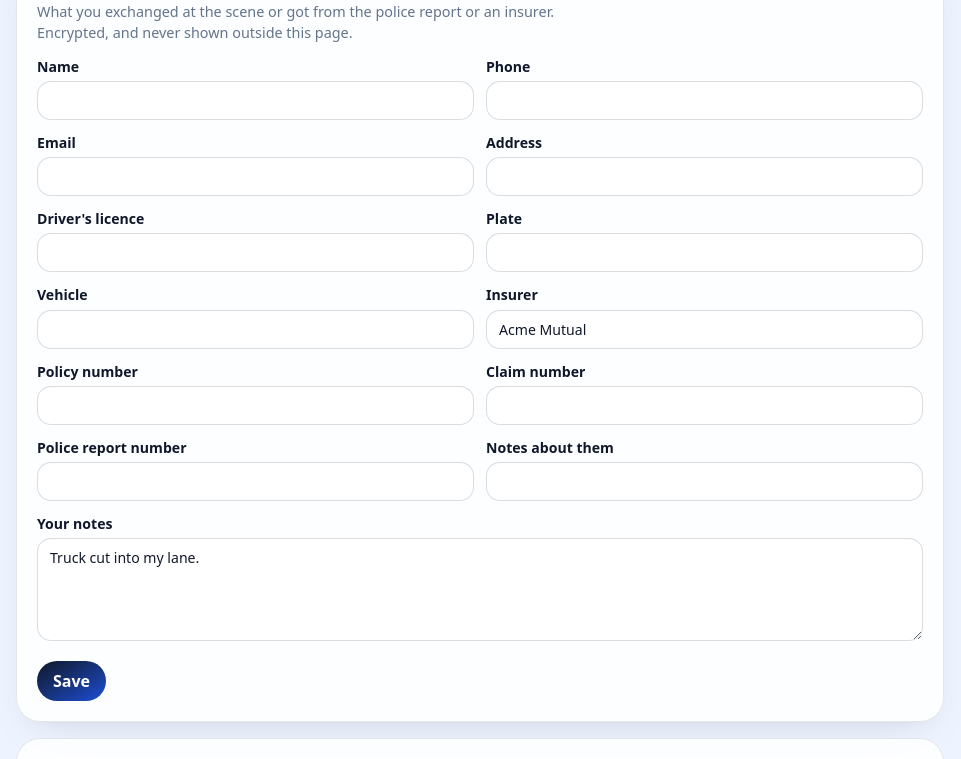
IncidentReport › saves the other party and notes
(page scrolled)
Expected: the field labelled "Insurer" holds "Acme Mutual", [486,310,923,349]
Type "CLM-42" into the field labelled "Claim number".
click(704, 405); type("CLM-42")  # box [486,386,923,425]
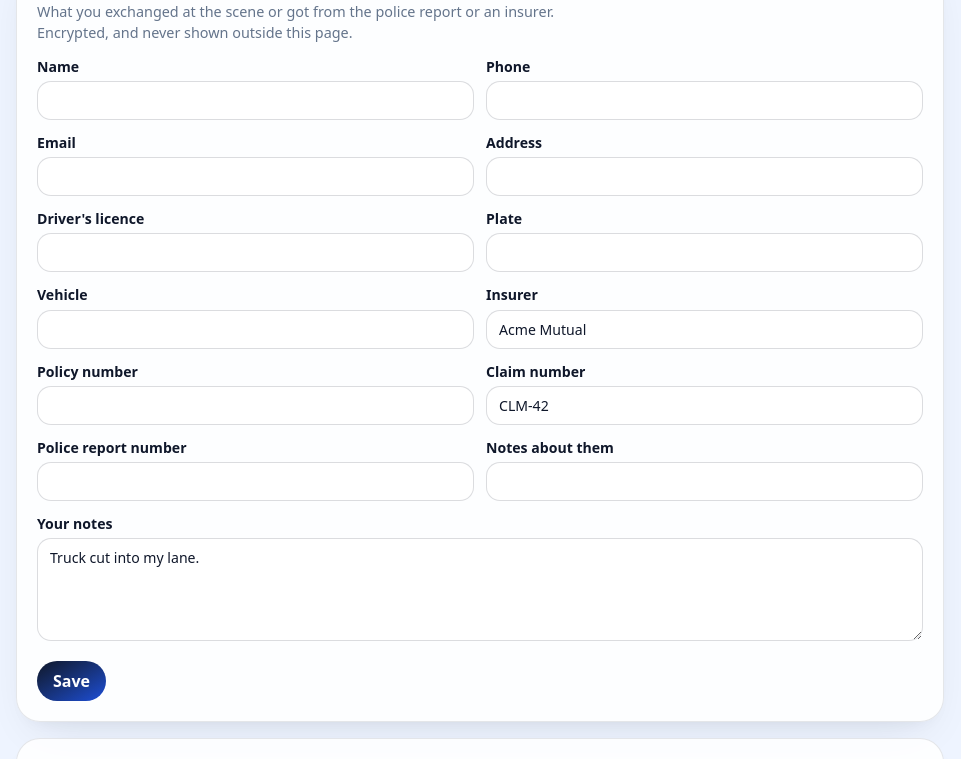
Click the button "Save".
click(72, 681)  # box [37,661,106,701]
(page scrolled)
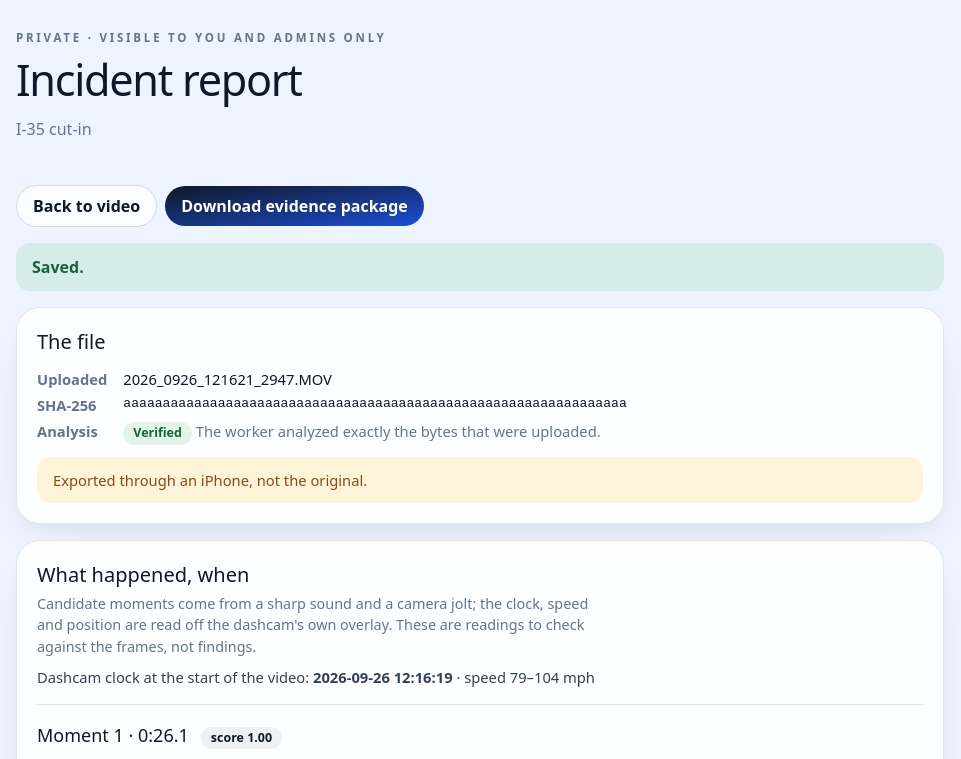
Now the text "Saved." is shown, box [16,243,944,291]
